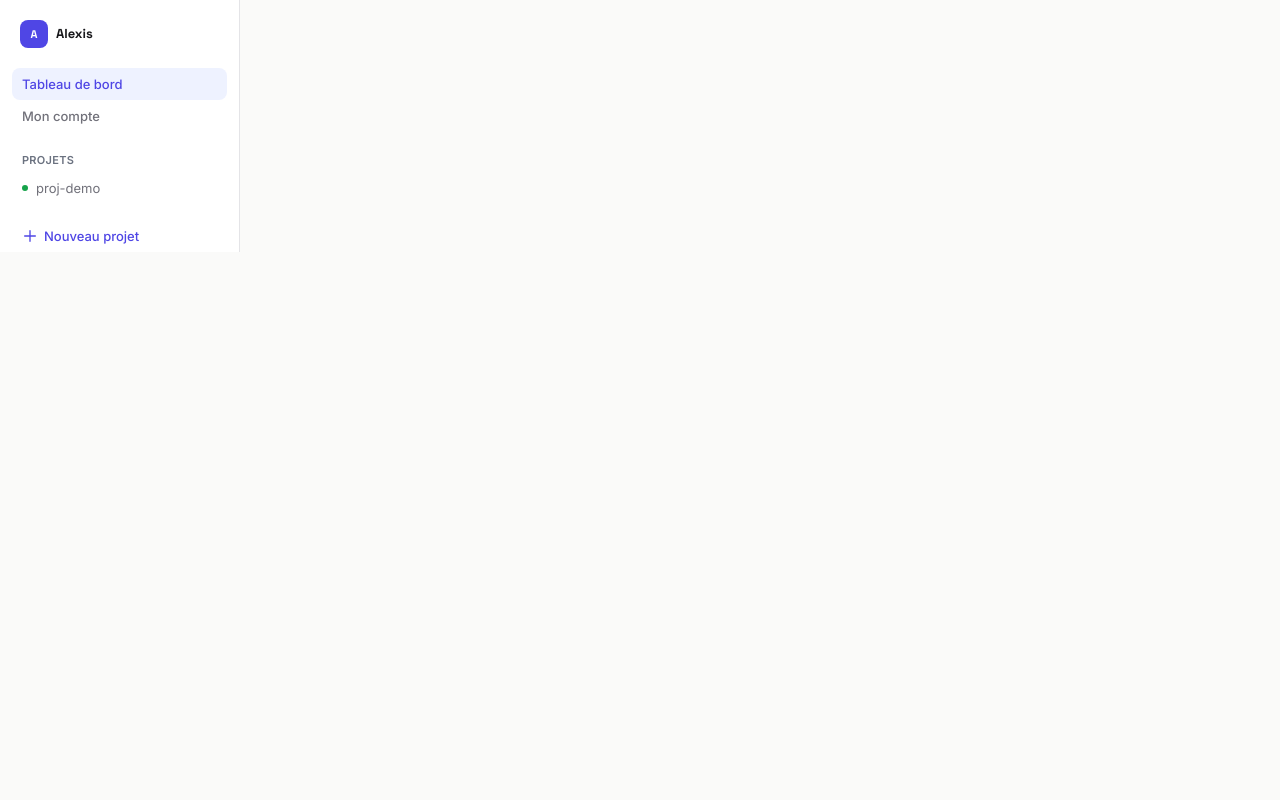
Test: AppSidebar — global state (outside a project) › shows a reminder modal instead of a link when the account isn't email-verified
Click the button "Nouveau projet" at [81, 236], box [12, 220, 149, 252]
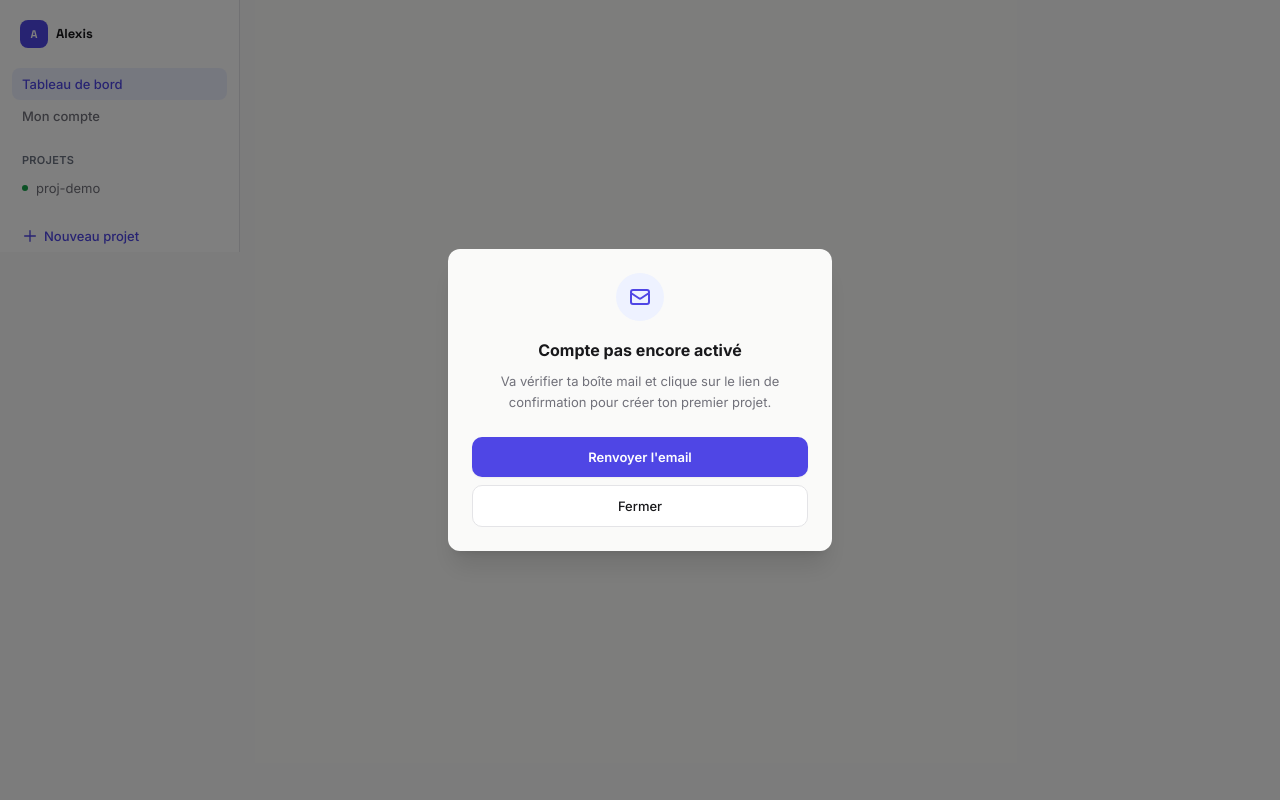
Expected: the heading "Compte pas encore activé" is shown, [538, 340, 742, 360]
